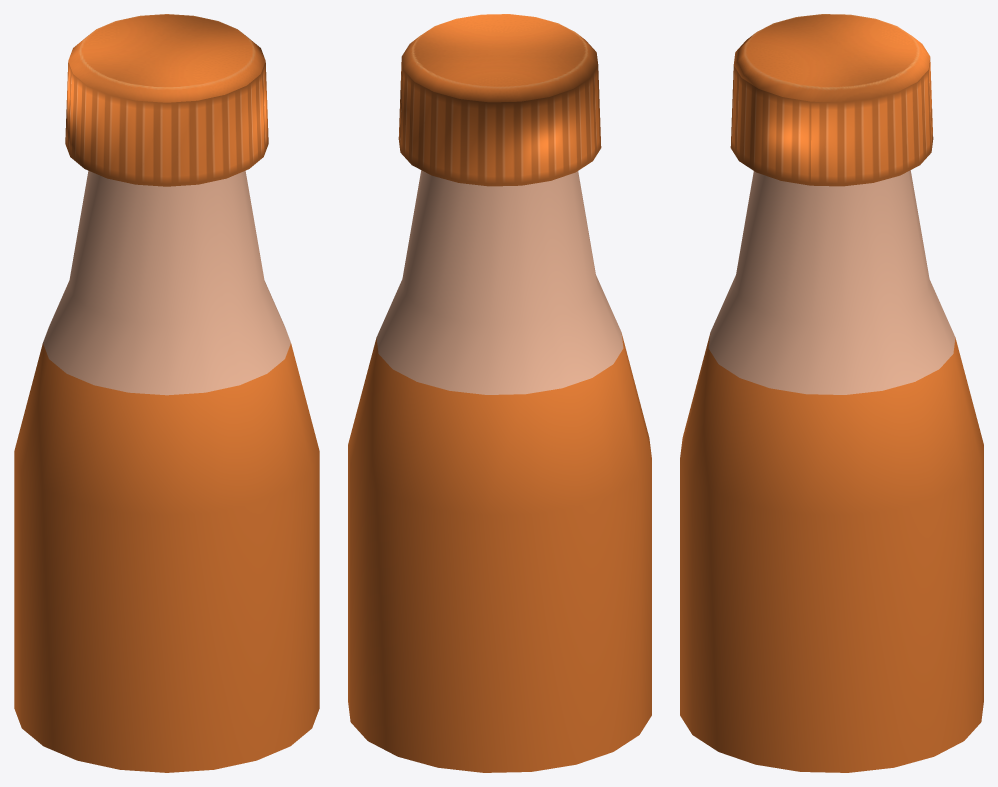
File: OrangeBottle.fbx
3 views of the same model, side by side, from view 1: azimuth 30°, elevation 25°; view 2: azimuth 150°, elevation 25°; view 3: azimuth 270°, elevation 25° (orthographic).
Visible parts, largest first — view 1: OrangeBottleWide; view 2: OrangeBottleWide; view 3: OrangeBottleWide.
Part boxes in pixels (left/top/right/bottom): OrangeBottleWide: left=14, top=14, right=319, bottom=772; OrangeBottleWide: left=348, top=14, right=651, bottom=772; OrangeBottleWide: left=680, top=14, right=983, bottom=772.
Size of the model in its own units: 17.19 by 41.09 by 17.19.
1 material, 1 textured.
